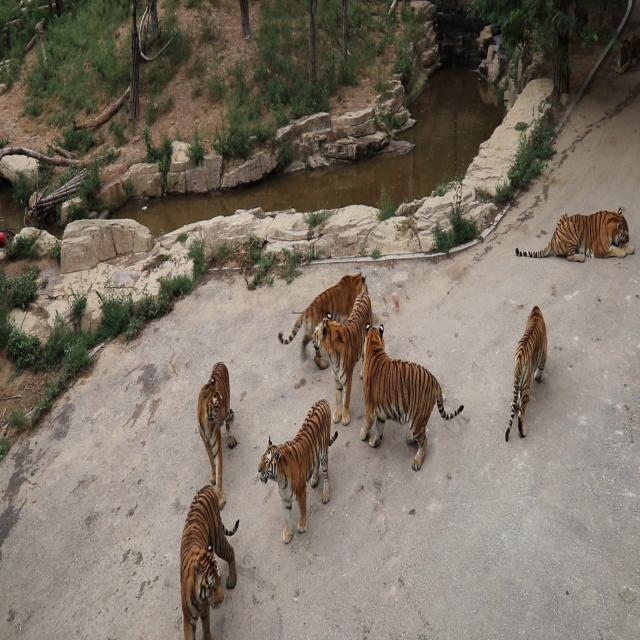Tiger: (257, 355, 349, 567), (360, 319, 466, 473), (171, 465, 259, 635), (188, 334, 254, 497), (276, 266, 369, 366), (311, 290, 370, 435), (513, 204, 634, 264), (504, 299, 549, 441)
